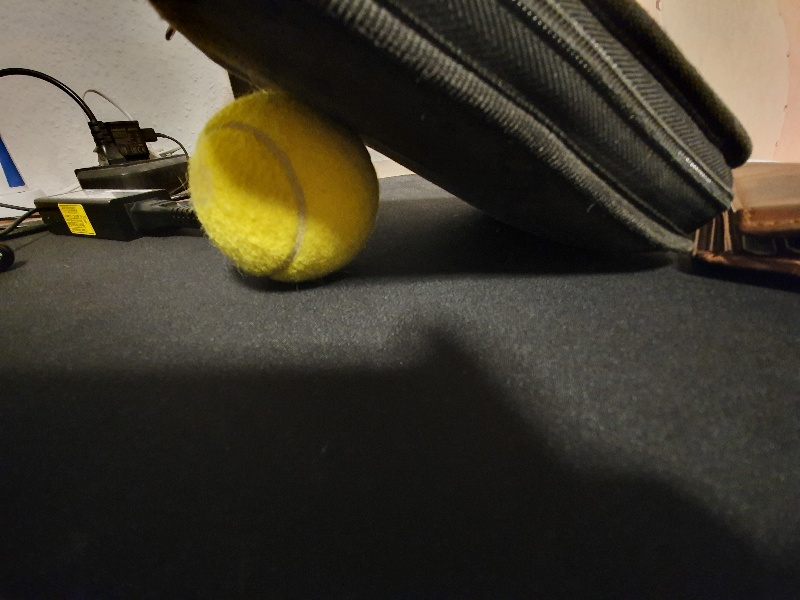Tennisball: (173, 80, 400, 294)
